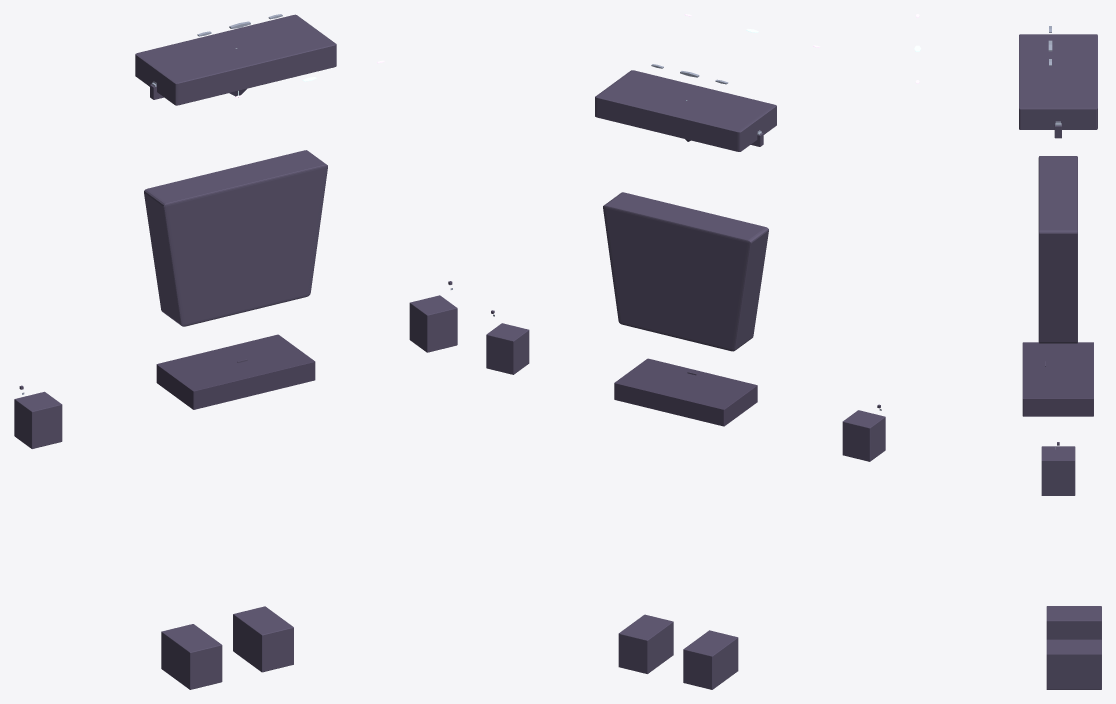
File: outfit_compiler.glb
3 views of the same model, side by side, from view 1: azimuth 30°, elevation 25°; view 2: azimuth 150°, elevation 25°; view 3: azimuth 270°, elevation 25° (orthographic). The views are drawn at different scales.
Visible parts, largest first — view 1: outfit_compiler_chest_plate, outfit_compiler_head_circlet, outfit_compiler_hip_belt, outfit_compiler_boot_L, outfit_compiler_boot_R, outfit_compiler_glove_R, outfit_compiler_glove_L; view 2: outfit_compiler_chest_plate, outfit_compiler_head_circlet, outfit_compiler_hip_belt, outfit_compiler_boot_L, outfit_compiler_boot_R, outfit_compiler_glove_L, outfit_compiler_glove_R; view 3: outfit_compiler_chest_plate, outfit_compiler_head_circlet, outfit_compiler_hip_belt, outfit_compiler_boot_R, outfit_compiler_boot_L, outfit_compiler_glove_R.
Boxes of the visible parts, x1,y1,x2,y2 form: outfit_compiler_chest_plate: (144,150,327,326); outfit_compiler_head_circlet: (135,14,336,105); outfit_compiler_hip_belt: (156,334,315,409); outfit_compiler_boot_L: (161,624,222,689); outfit_compiler_boot_R: (233,606,293,672); outfit_compiler_glove_R: (409,295,457,352); outfit_compiler_glove_L: (14,391,62,448); outfit_compiler_chest_plate: (603,192,768,351); outfit_compiler_head_circlet: (595,70,776,151); outfit_compiler_hip_belt: (614,358,757,426); outfit_compiler_boot_L: (683,630,738,689); outfit_compiler_boot_R: (618,614,673,673); outfit_compiler_glove_L: (842,410,885,461); outfit_compiler_glove_R: (486,323,529,374); outfit_compiler_chest_plate: (1038,156,1077,343); outfit_compiler_head_circlet: (1019,34,1097,129); outfit_compiler_hip_belt: (1022,342,1093,416); outfit_compiler_boot_R: (1046,639,1101,689); outfit_compiler_boot_L: (1046,606,1101,639); outfit_compiler_glove_R: (1041,446,1075,495).
Size of the model in its own units: 1.2 by 1.73 by 0.475.
